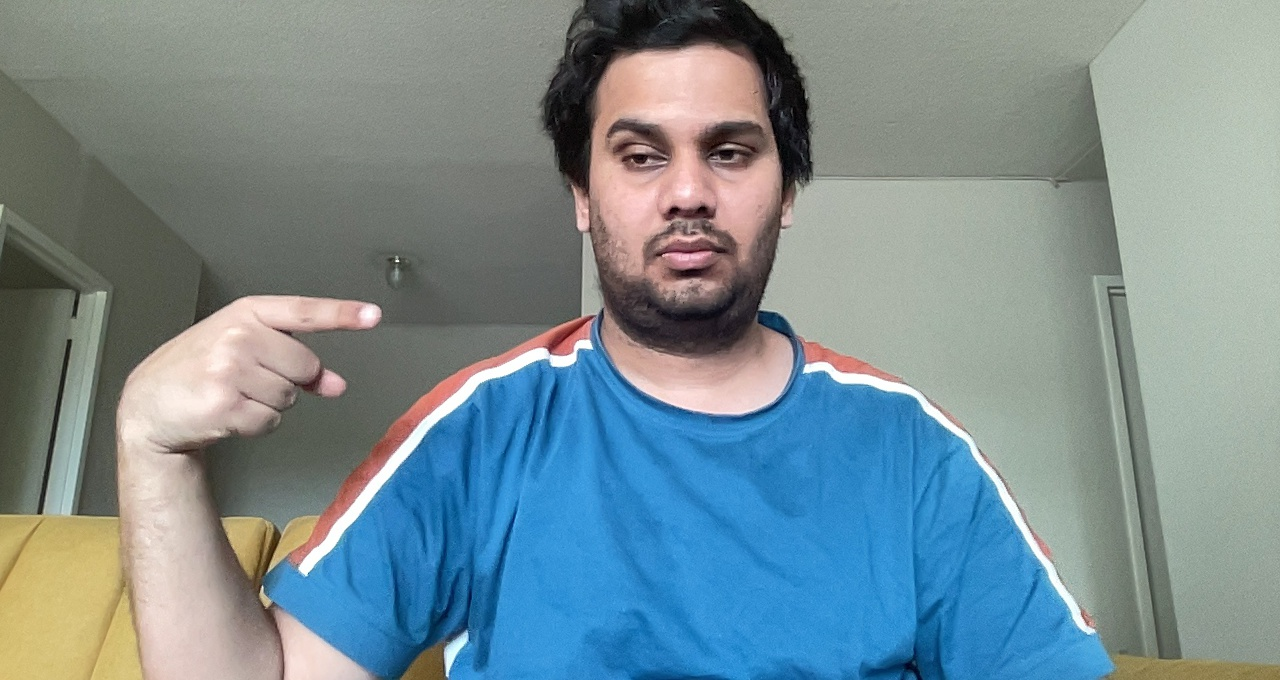fingerleft: (111, 287, 390, 449)
